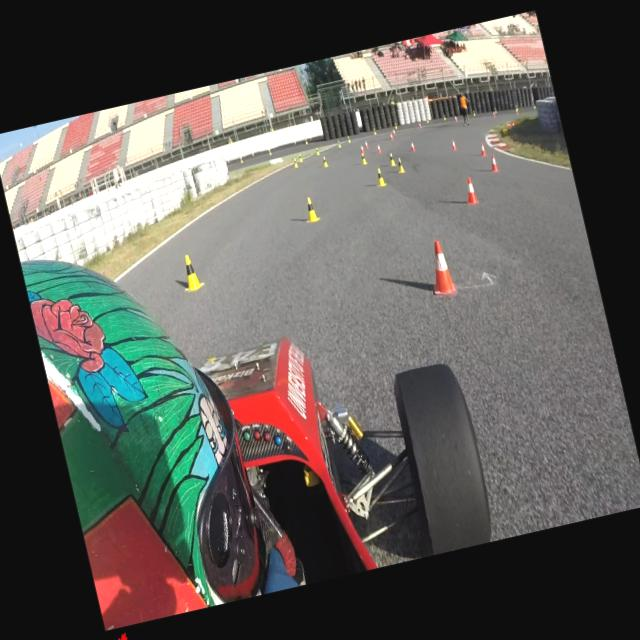orange_cone: (423, 238, 456, 296), (461, 176, 478, 206), (487, 153, 499, 173), (478, 142, 487, 157), (448, 138, 458, 151), (408, 140, 416, 152), (375, 143, 382, 153), (363, 139, 369, 149), (358, 144, 364, 154), (388, 132, 394, 142), (491, 109, 496, 117), (453, 114, 458, 122), (417, 120, 422, 128), (514, 105, 518, 114), (391, 128, 396, 134), (472, 108, 476, 115)
yellow_cone: (177, 252, 205, 292), (300, 194, 320, 223), (374, 167, 387, 187), (395, 156, 405, 174), (387, 152, 396, 166), (321, 154, 328, 168), (359, 152, 367, 164), (292, 156, 298, 168), (297, 152, 303, 162), (314, 146, 320, 156), (336, 139, 342, 148), (346, 134, 351, 144), (371, 127, 377, 135), (471, 108, 476, 115), (268, 148, 272, 156), (424, 116, 428, 124), (442, 112, 446, 120), (393, 122, 397, 129), (304, 138, 308, 144), (532, 102, 535, 108)
